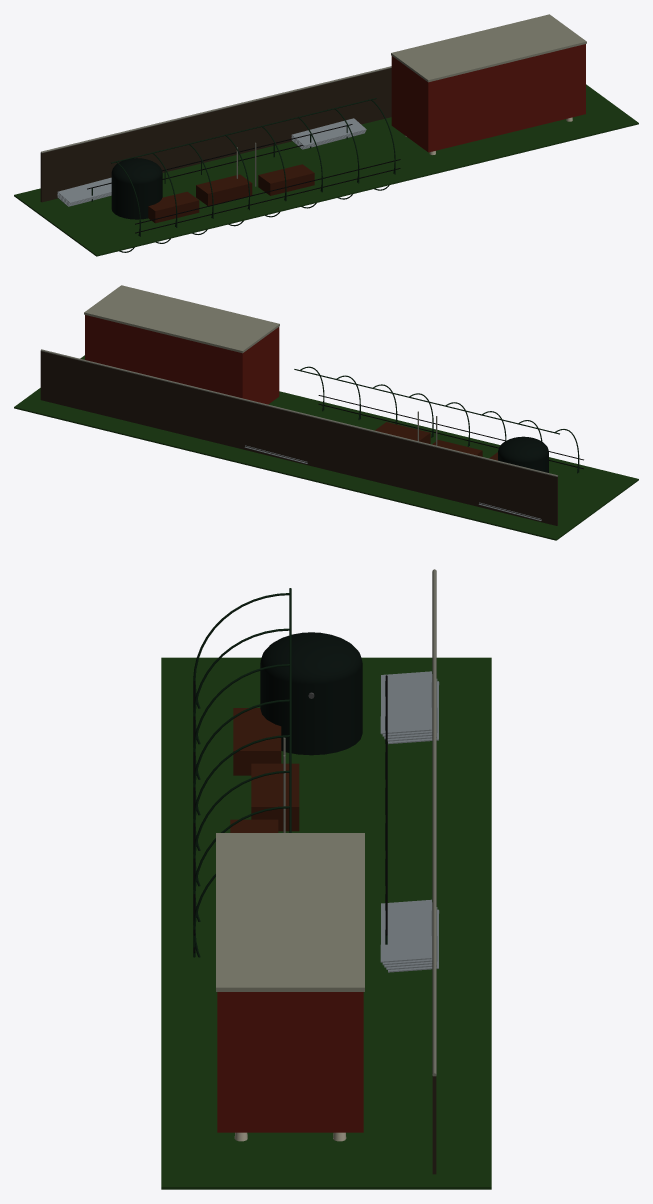
3 renders of one model, top to bottom at view 1: azimuth 30°, elevation 25°; view 2: azimuth 150°, elevation 25°; view 3: azimuth 270°, elevation 25°, orthographic. The views are drawn at different scales.
Visible parts, largest first — view 1: ground, fencePanel, containerBody, containerTopTrim, sheet_4, tankBody, bed_2, bed_1, bed_0, tankDome, fenceCapping, ridgePurlin (+2 smaller); view 2: fencePanel, ground, containerBody, containerTopTrim, fenceCapping, tankDome, bed_2, ridgePurlin; view 3: ground, containerTopTrim, containerBody, tankBody, sheet_4, tankDome, bed_1, bed_0, fenceCapping.
Part boxes in pixels (x1=…): ground: x1=14, y1=84, x2=638, y2=256; fencePanel: x1=40, y1=68, x2=391, y2=202; containerBody: x1=391, y1=44, x2=585, y2=152; containerTopTrim: x1=391, y1=14, x2=586, y2=82; sheet_4: x1=57, y1=118, x2=366, y2=203; tankBody: x1=111, y1=174, x2=162, y2=219; bed_2: x1=258, y1=164, x2=314, y2=195; bed_1: x1=196, y1=174, x2=252, y2=205; bed_0: x1=148, y1=191, x2=199, y2=223; tankDome: x1=111, y1=158, x2=162, y2=184; fenceCapping: x1=40, y1=66, x2=391, y2=153; ridgePurlin: x1=111, y1=98, x2=376, y2=163; fencePanel: x1=40, y1=351, x2=557, y2=525; ground: x1=14, y1=355, x2=638, y2=540; containerBody: x1=85, y1=315, x2=279, y2=404; containerTopTrim: x1=84, y1=285, x2=279, y2=353; fenceCapping: x1=40, y1=349, x2=557, y2=476; tankDome: x1=498, y1=436, x2=548, y2=462; bed_2: x1=375, y1=422, x2=430, y2=443; ridgePurlin: x1=294, y1=369, x2=559, y2=434; ground: x1=161, y1=657, x2=491, y2=1189; containerTopTrim: x1=216, y1=833, x2=364, y2=991; containerBody: x1=217, y1=992, x2=363, y2=1132; tankBody: x1=260, y1=663, x2=362, y2=755; sheet_4: x1=380, y1=671, x2=431, y2=962; tankDome: x1=260, y1=632, x2=362, y2=684; bed_1: x1=251, y1=763, x2=299, y2=831; bed_0: x1=233, y1=708, x2=281, y2=775; fenceCapping: x1=432, y1=569, x2=436, y2=1076.
Size of the model in its own units: 20.86 by 4.09 by 5.5.
